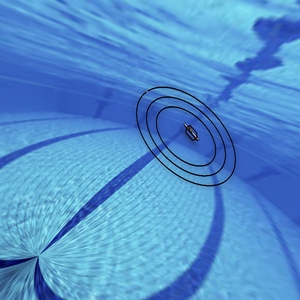circle: (127, 69, 249, 197)
submarine: (175, 116, 204, 146)
